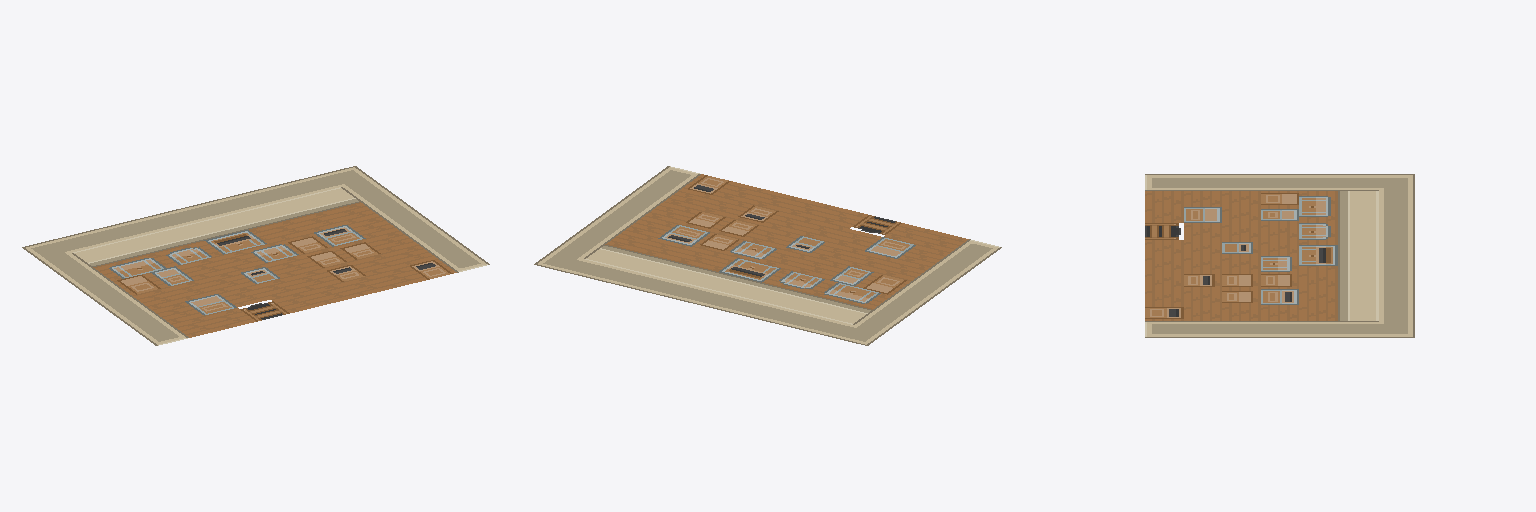
3 views of the same model, side by side, from view 1: azimuth 30°, elevation 25°; view 2: azimuth 150°, elevation 25°; view 3: azimuth 270°, elevation 25° (orthographic).
Visible parts, largest first — view 1: Grid_Grid.001; view 2: Grid_Grid.001; view 3: Grid_Grid.001.
Part boxes in pixels (x1,y1,x2,y2): Grid_Grid.001: (22, 166, 489, 345); Grid_Grid.001: (534, 166, 1001, 345); Grid_Grid.001: (1145, 174, 1414, 337).
Bounding box in the file's own units: 6.4 × 0 × 4.48.
Materials: 1 (1 with a texture image).